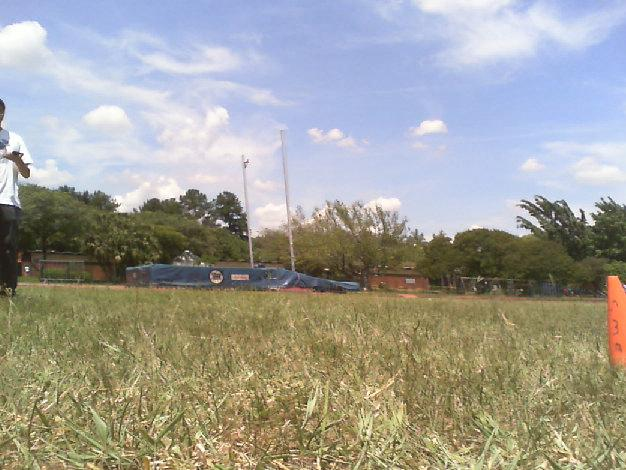0 cone: (608, 276, 626, 362)
